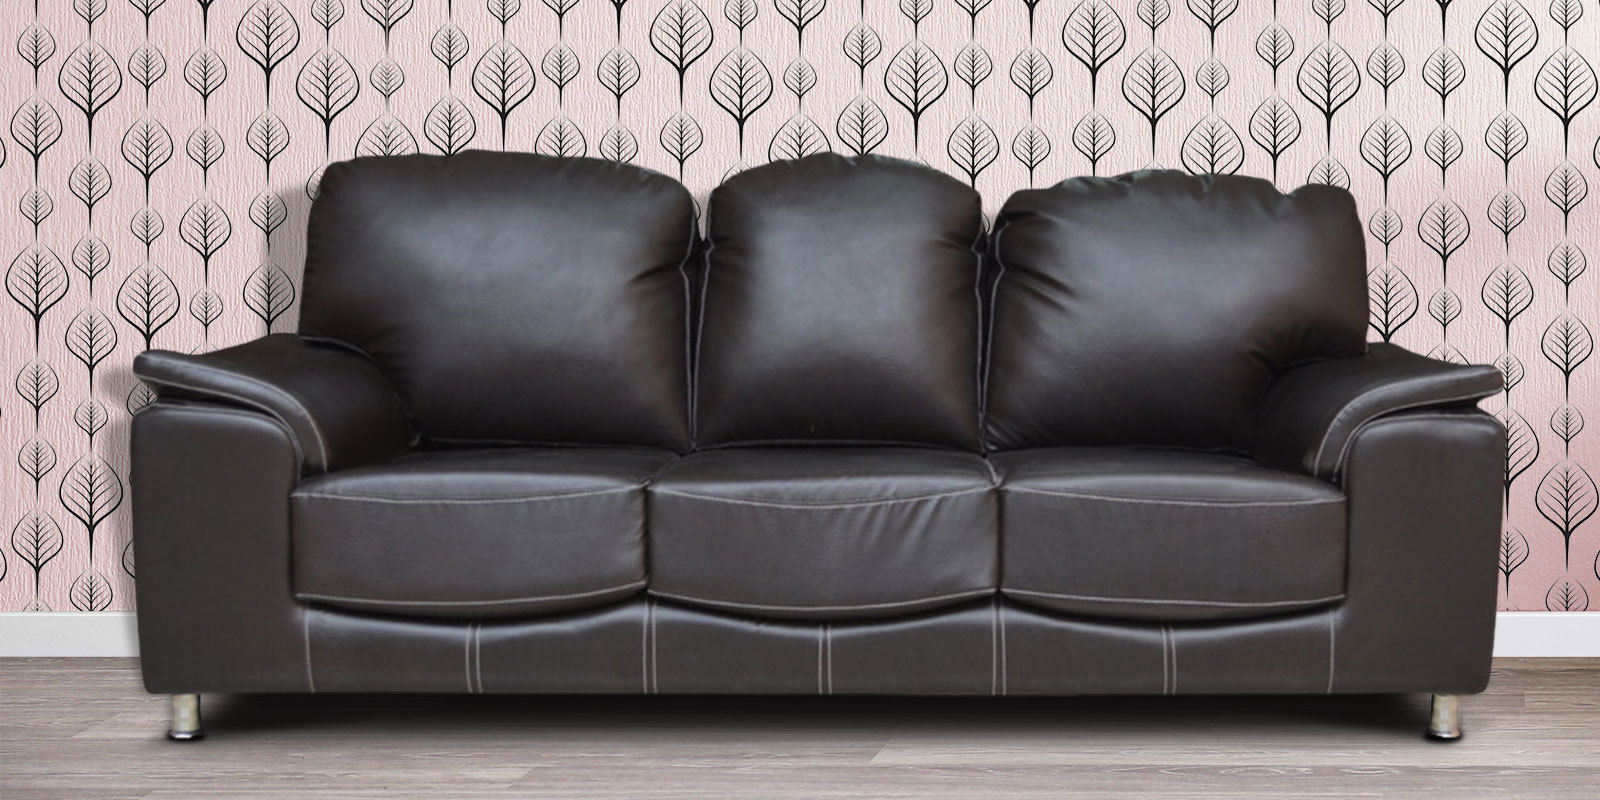Madeira Three Seater Sofa in Sandy Brown Colour by CasaCraft: (130, 147, 1513, 742)
